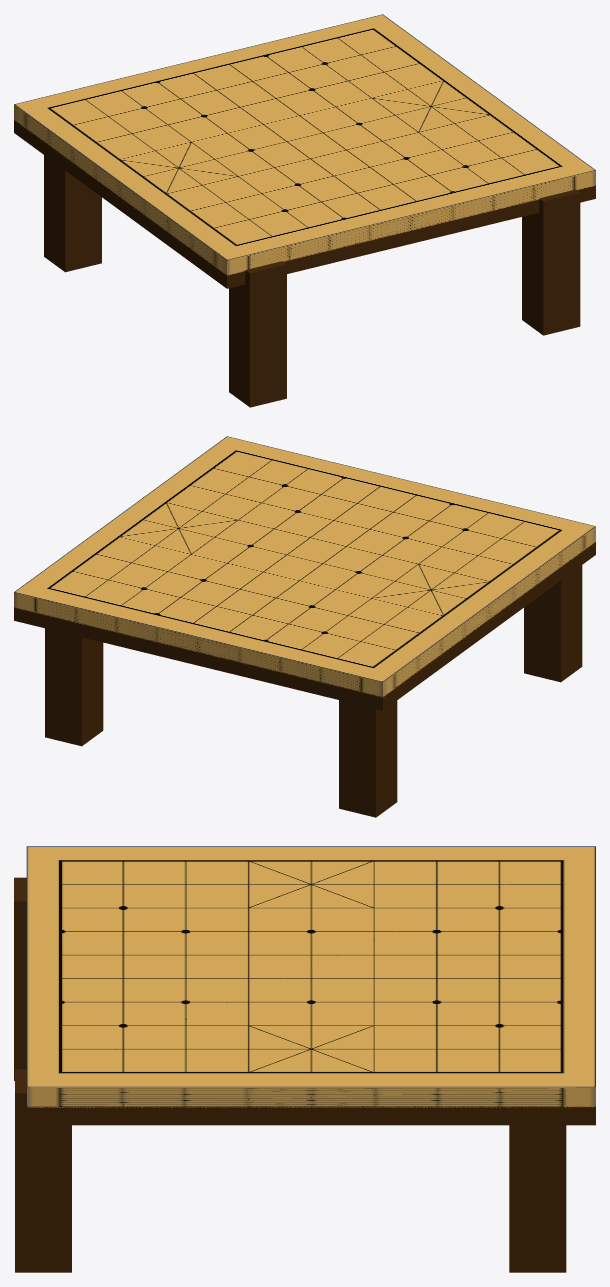
File: janggipan.fbx
3 renders of one model, top to bottom at view 1: azimuth 30°, elevation 25°; view 2: azimuth 150°, elevation 25°; view 3: azimuth 270°, elevation 25°, orthographic. The views are drawn at different scales.
Parts seen in each view (by area): view 1: Map, Map__4_, Map__5_, Map__1_, Map__3_; view 2: Map, Map__1_, Map__3_, Map__2_, Map__5_; view 3: Map, Map__1_, Map__4_, Map__2_, Map__5_.
Part boxes in pixels (<box>): Map: <box>14,14,595,275</box>; Map__4_: <box>522,189,580,335</box>; Map__5_: <box>229,261,286,407</box>; Map__1_: <box>14,120,595,288</box>; Map__3_: <box>44,155,101,272</box>; Map: <box>14,436,595,697</box>; Map__1_: <box>14,542,595,710</box>; Map__3_: <box>339,700,397,817</box>; Map__2_: <box>45,628,103,746</box>; Map__5_: <box>524,565,582,682</box>; Map: <box>26,846,595,1107</box>; Map__1_: <box>26,1106,595,1125</box>; Map__4_: <box>15,1069,71,1272</box>; Map__2_: <box>509,1125,566,1272</box>; Map__5_: <box>14,877,26,1080</box>.
Bounding box in the file's own units: 500 × 192 × 511.
2 materials, 1 textured.
